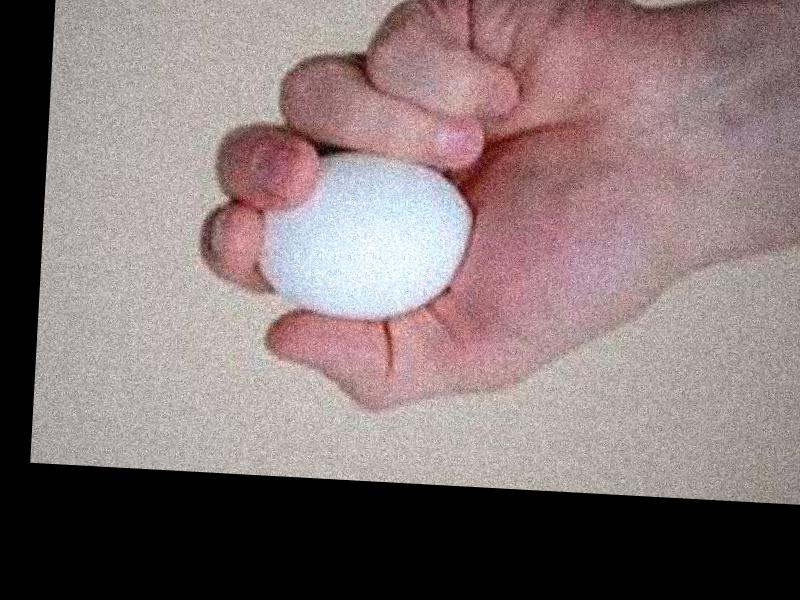Eggs: (256, 149, 479, 324)
